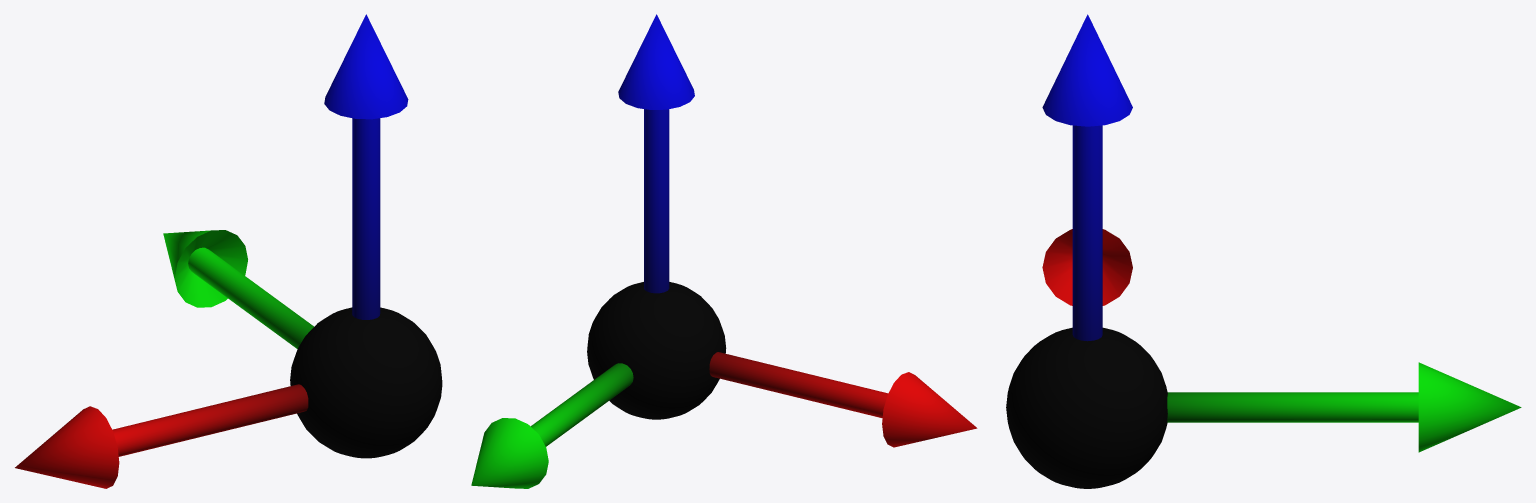
File: pivot.FBX
3 renders of one model, left to right at view 1: azimuth 30°, elevation 25°; view 2: azimuth 150°, elevation 25°; view 3: azimuth 270°, elevation 25°, orthographic. The views are drawn at different scales.
Parts seen in each view (by area): view 1: Sphere001; view 2: Sphere001; view 3: Sphere001.
Part boxes in pixels (x1,y1,x2,y2): Sphere001: [15, 14, 442, 488]; Sphere001: [471, 14, 977, 488]; Sphere001: [1006, 14, 1521, 488].
Size of the model in its own units: 29.53 by 29.53 by 29.53.
